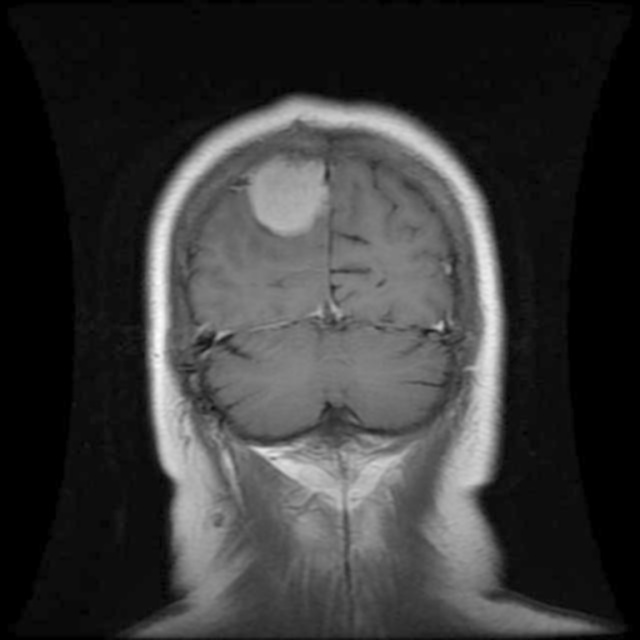meningioma tumor: (230, 144, 334, 246)
